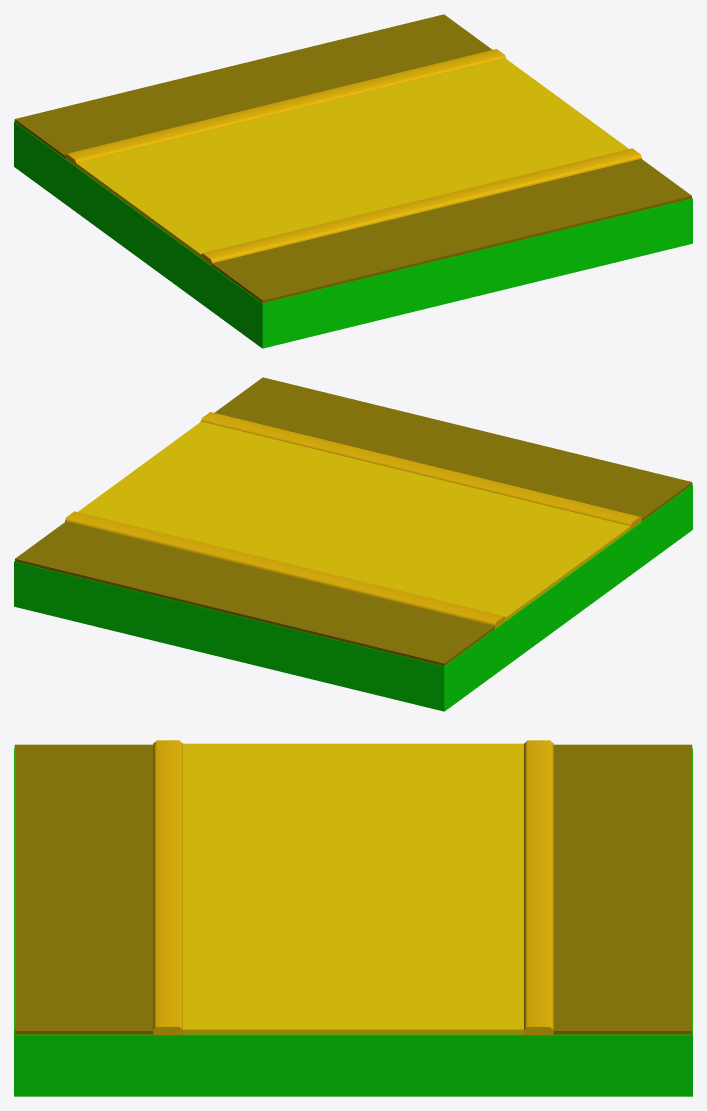
The model's file is StraightStreet_SM.fbx.
3 views of the same model, one above another, from view 1: azimuth 30°, elevation 25°; view 2: azimuth 150°, elevation 25°; view 3: azimuth 270°, elevation 25° (orthographic). The views are drawn at different scales.
Visible parts, largest first — view 1: StraightStreet; view 2: StraightStreet; view 3: StraightStreet.
Boxes of the visible parts, x1,y1,x2,y2 form: StraightStreet: (14, 14, 692, 348); StraightStreet: (14, 377, 692, 711); StraightStreet: (14, 740, 692, 1096).
Bounding box in the file's own units: 100 × 11.35 × 100.
